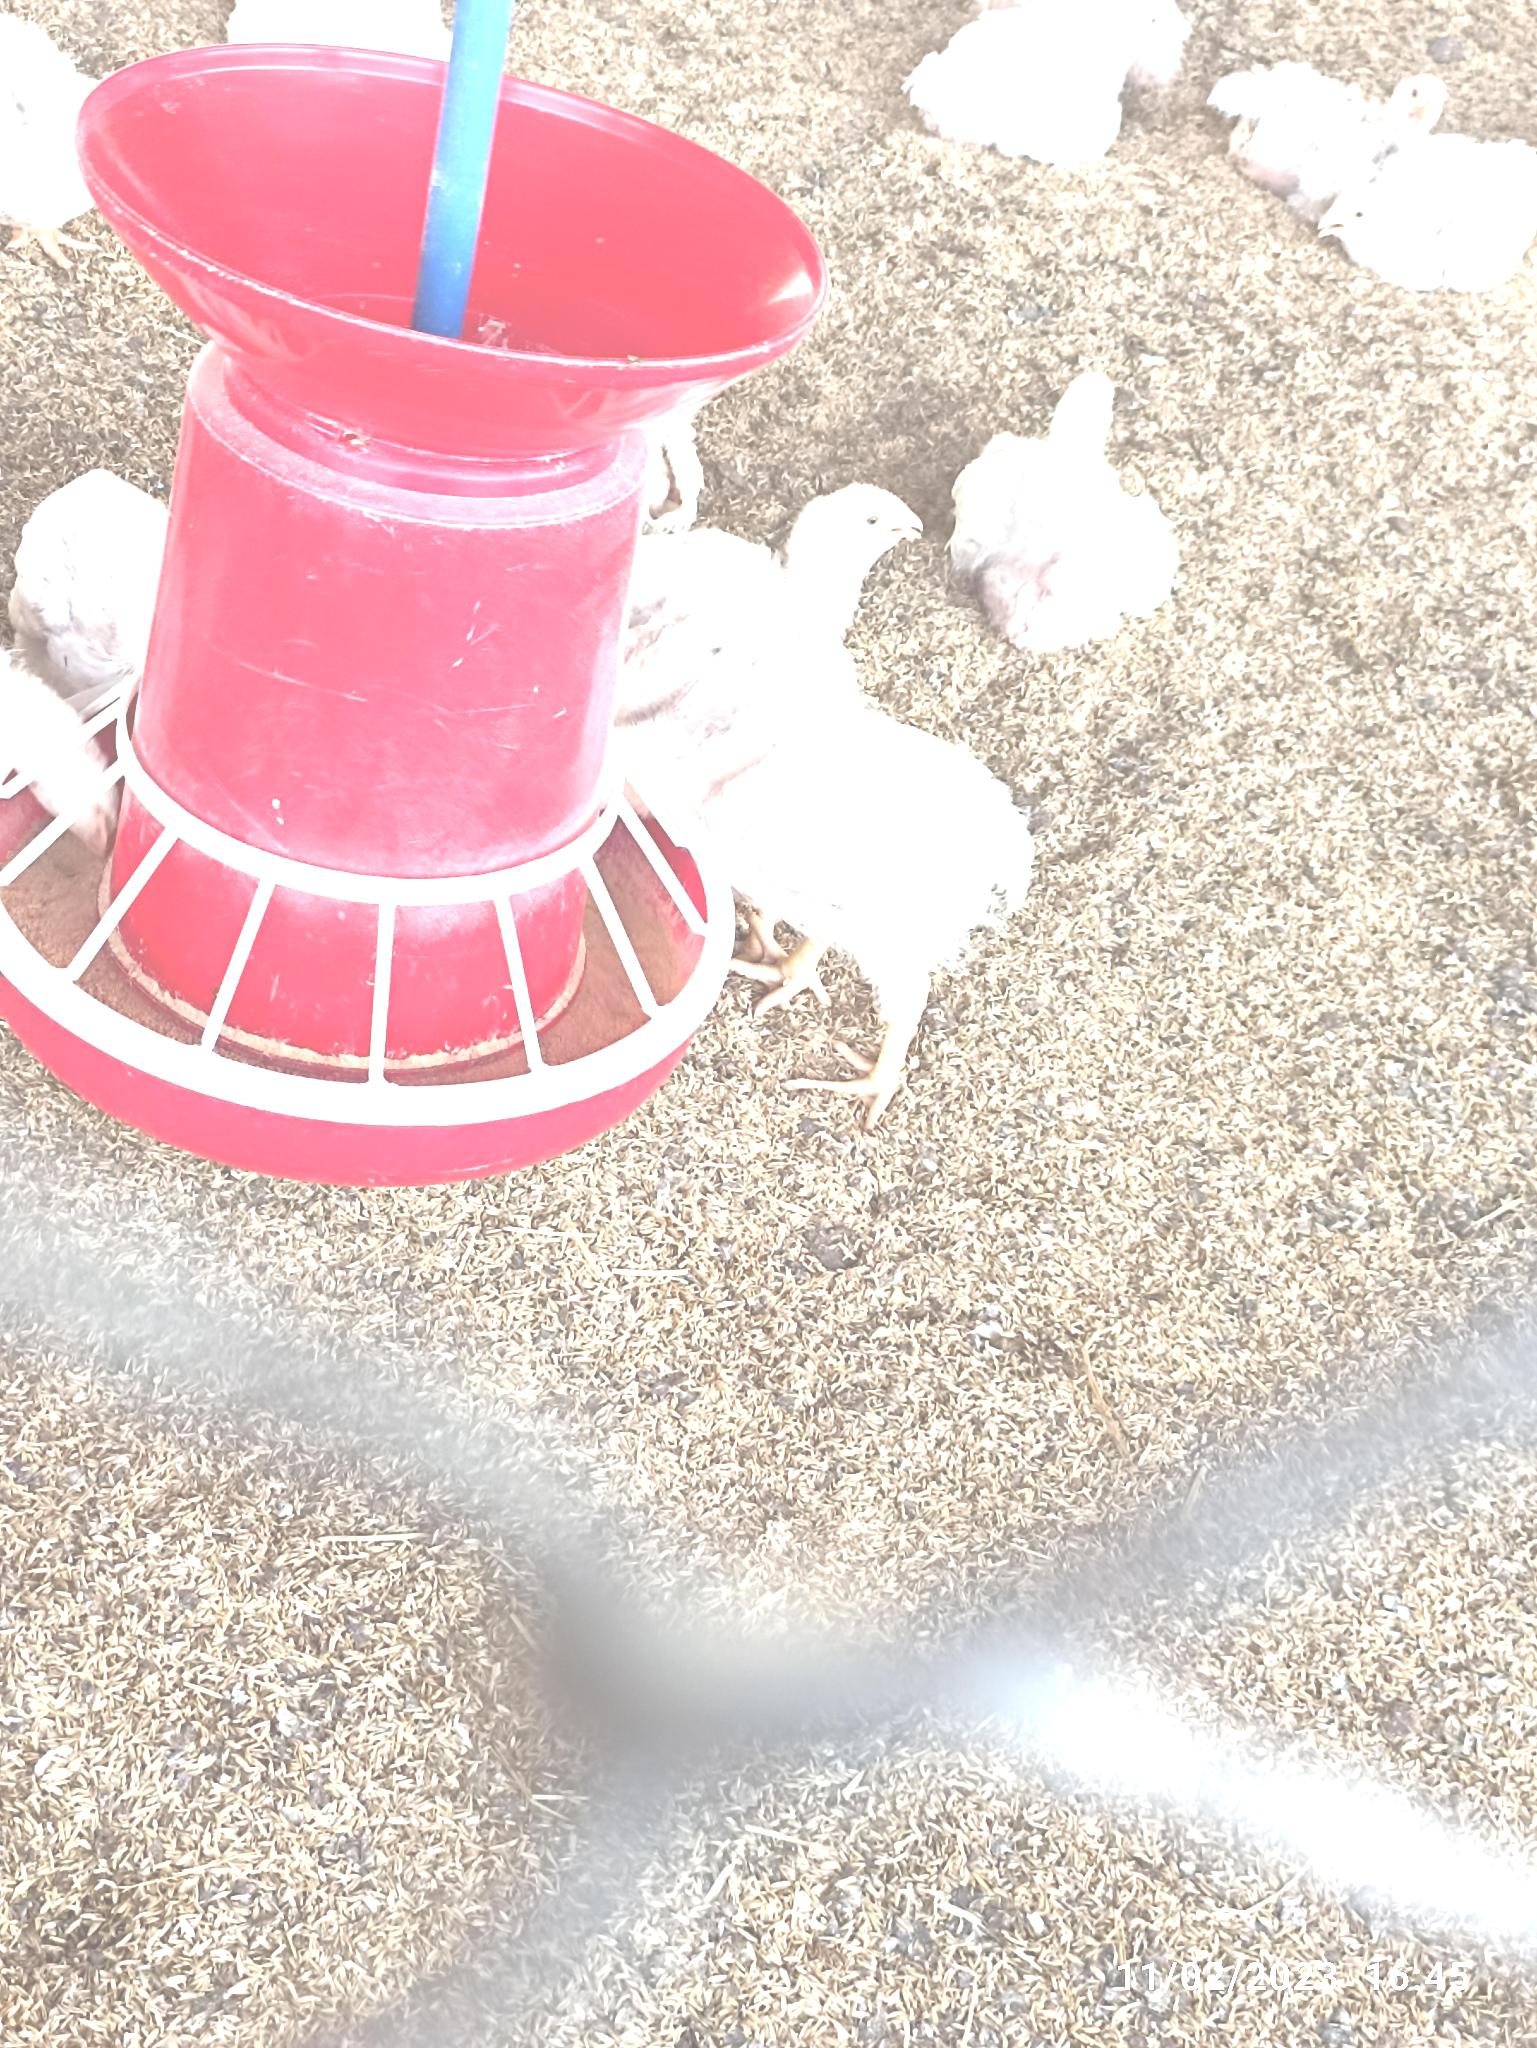Pollos: (628, 473, 919, 757), (961, 357, 1191, 650), (922, 2, 1187, 157), (1334, 124, 1535, 274), (1224, 48, 1458, 140)
